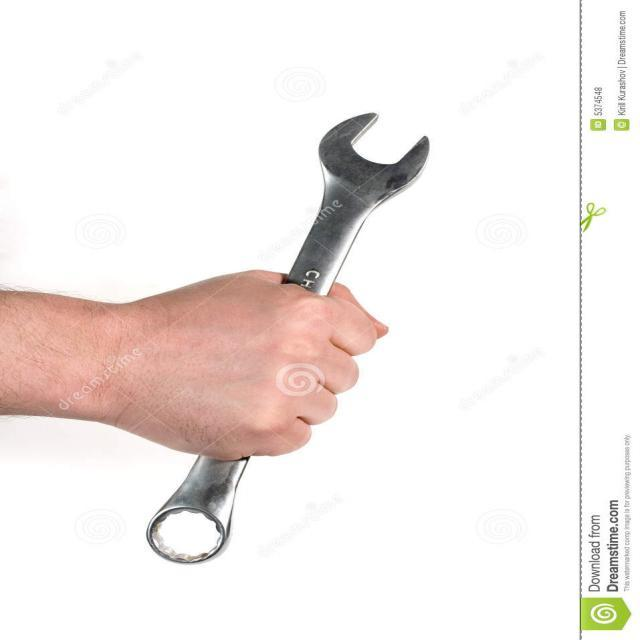wrench: (136, 110, 438, 570)
